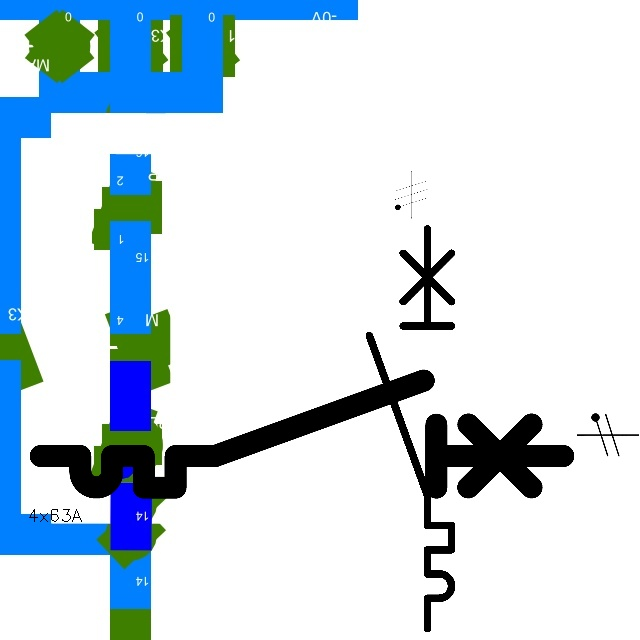interruptor_termomagnetico: (27, 367, 576, 501), (359, 218, 462, 638)
